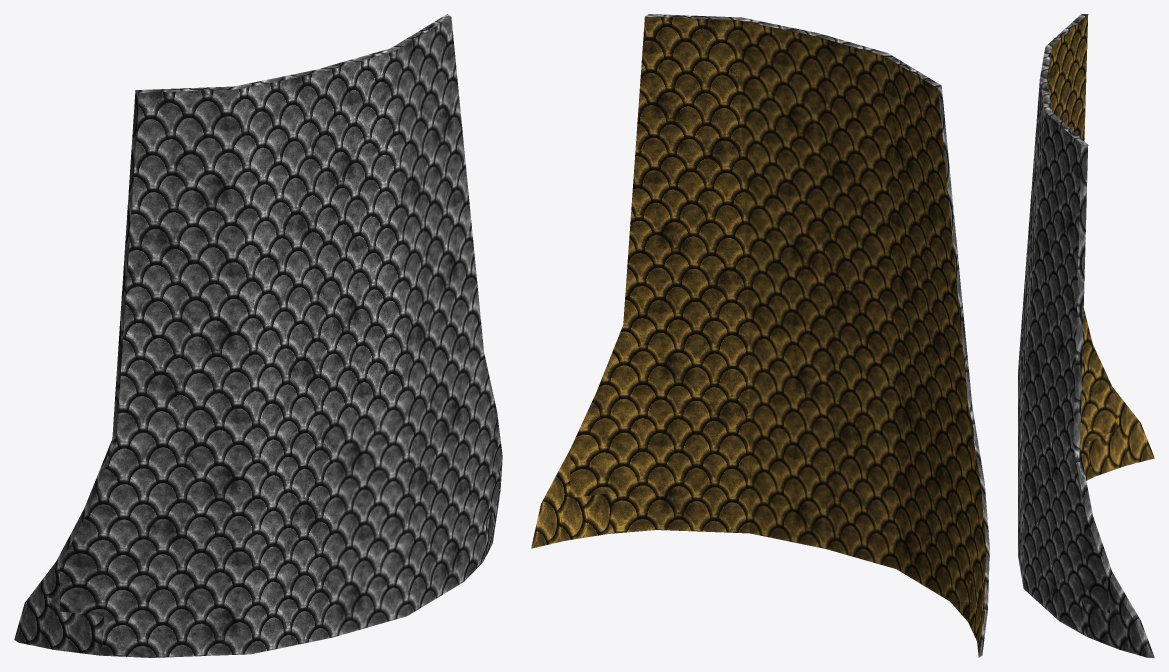
Rendered from cloak.obj.
The picture shows the model from 3 angles, left to right: view 1: azimuth 30°, elevation 25°; view 2: azimuth 150°, elevation 25°; view 3: azimuth 270°, elevation 25°; orthographic projection. The views are drawn at different scales.
Visible parts, largest first — view 1: Plane; view 2: Plane; view 3: Plane.
Boxes of the visible parts, x1=… form: Plane: x1=14, y1=14, x2=502, y2=657; Plane: x1=531, y1=14, x2=989, y2=657; Plane: x1=1018, y1=14, x2=1154, y2=657.
Bounding box in the file's own units: 3.05 × 3.42 × 0.8852.
